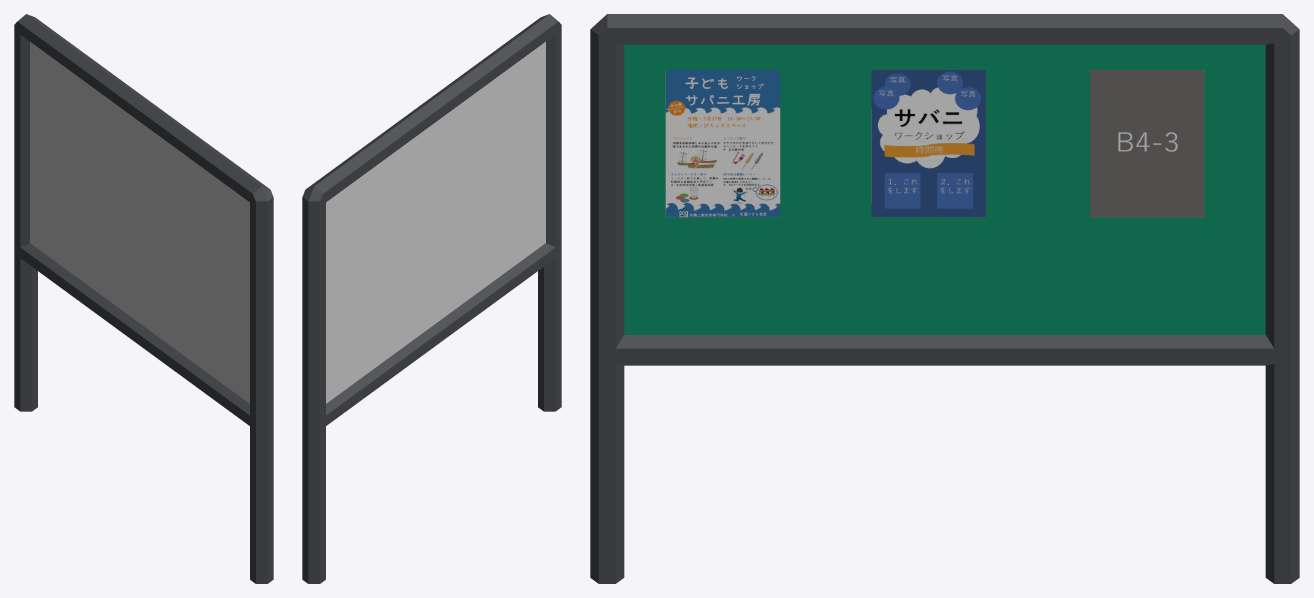
3 views of the same model, side by side, from view 1: azimuth 30°, elevation 25°; view 2: azimuth 150°, elevation 25°; view 3: azimuth 270°, elevation 25° (orthographic). The views are drawn at different scales.
Visible parts, largest first — view 1: 平面.001, 円柱; view 2: 平面.001, 円柱; view 3: 平面, 円柱, 平面.002, 平面.003, 平面.004.
Boxes of the visible parts, box(x1,y1,x2,y2) form: 平面.001: box(30, 41, 249, 403); 円柱: box(14, 14, 273, 583); 平面.001: box(326, 41, 545, 403); 円柱: box(302, 14, 561, 583); 平面: box(624, 44, 1265, 334); 円柱: box(590, 14, 1299, 583); 平面.002: box(665, 70, 780, 217); 平面.003: box(871, 70, 985, 217); 平面.004: box(1090, 70, 1204, 217).
Bounding box in the file's own units: 22.28 × 473 × 539.
Materials: 2 (2 with a texture image).
